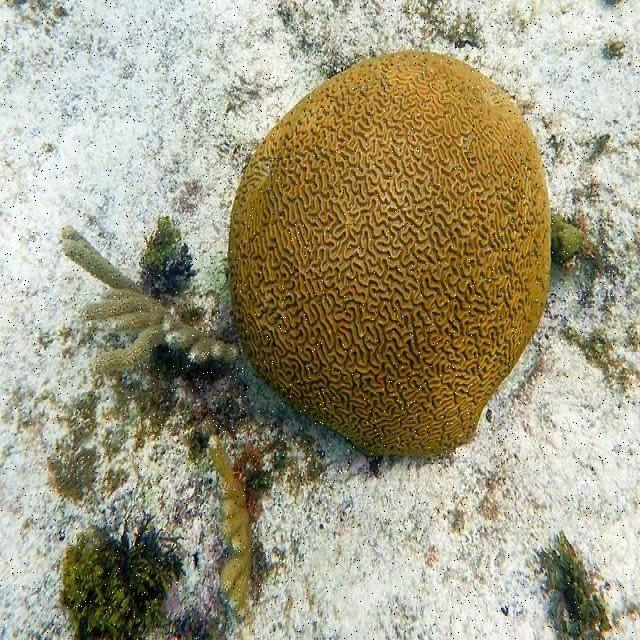aquatic plants: (58, 506, 227, 637), (137, 209, 201, 296), (554, 553, 600, 638)
reefs: (227, 49, 552, 457), (58, 226, 242, 376), (207, 436, 255, 624)
